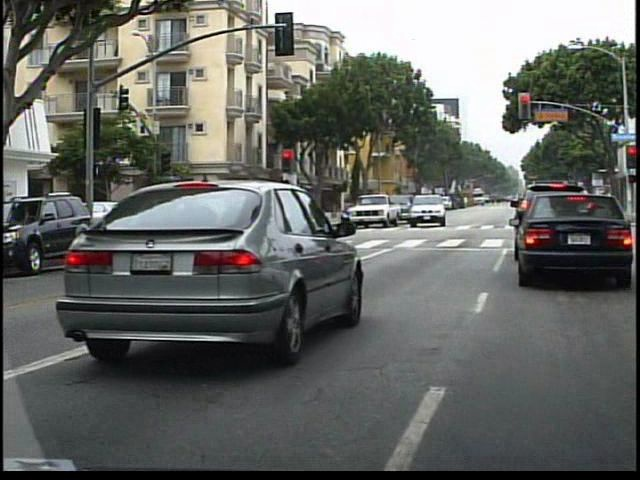person: (174, 191, 192, 237), (194, 193, 212, 234)
